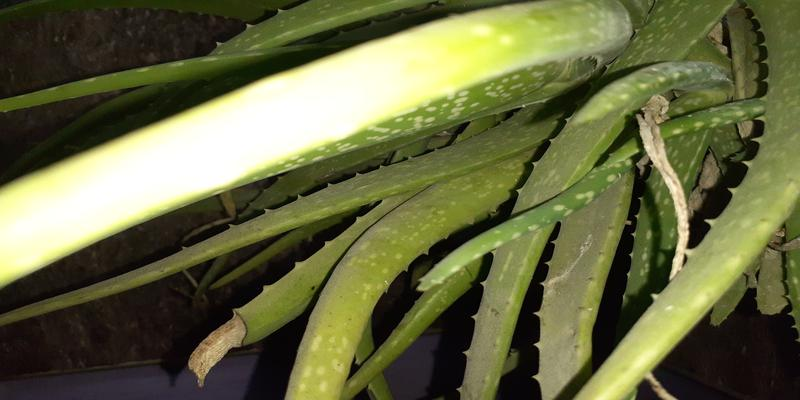Aloevera: (195, 20, 794, 357)
